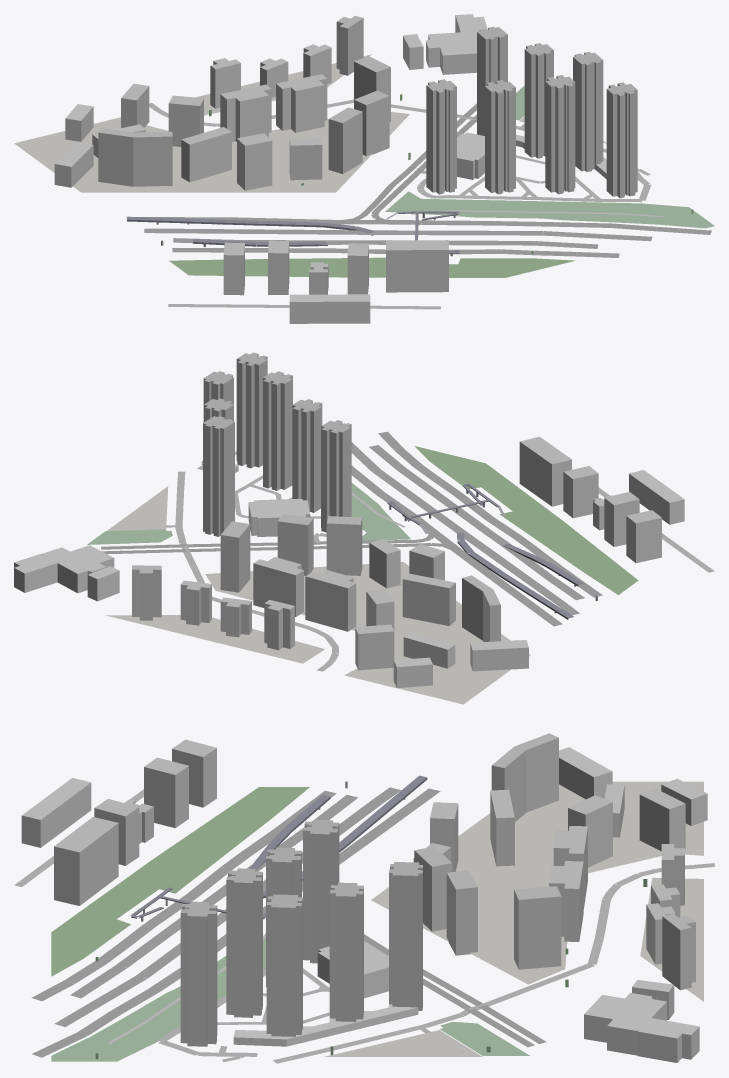
The picture shows the model from 3 angles, top to bottom: view 1: azimuth 30°, elevation 25°; view 2: azimuth 150°, elevation 25°; view 3: azimuth 270°, elevation 25°; orthographic projection. The views are drawn at different scales.
Bounding box in the file's own units: 571 × 122 × 537.
